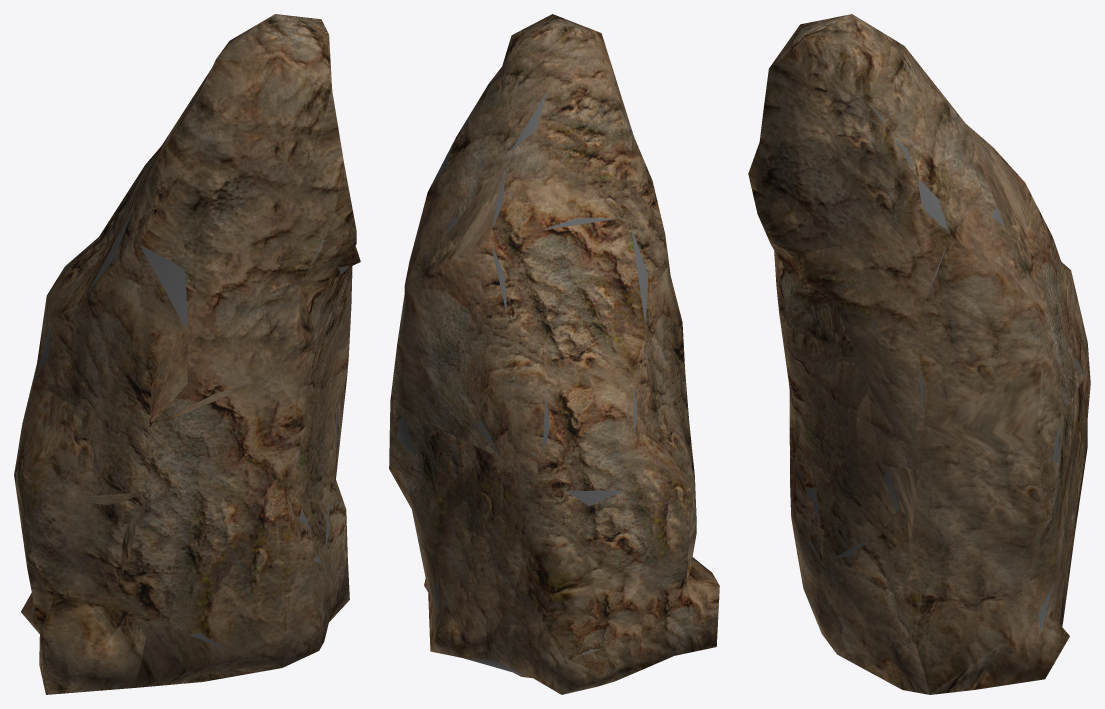
Rendered from OccSpike_01.DAE.
The picture shows the model from 3 angles, left to right: view 1: azimuth 30°, elevation 25°; view 2: azimuth 150°, elevation 25°; view 3: azimuth 270°, elevation 25°; orthographic projection. The views are drawn at different scales.
Parts seen in each view (by area): view 1: OccSpikeOne300, OccSpikeOne100, OccSpikeOne200; view 2: OccSpikeOne300, OccSpikeOne200, OccSpikeOne100; view 3: OccSpikeOne300, OccSpikeOne100, OccSpikeOne200.
Part boxes in pixels (x1,y1,x2,y2): OccSpikeOne300: (14, 14, 360, 694); OccSpikeOne100: (27, 61, 356, 687); OccSpikeOne200: (14, 59, 355, 687); OccSpikeOne300: (389, 14, 719, 694); OccSpikeOne200: (389, 34, 719, 681); OccSpikeOne100: (397, 59, 692, 677); OccSpikeOne300: (757, 14, 1090, 694); OccSpikeOne100: (748, 46, 1087, 694); OccSpikeOne200: (769, 58, 1087, 694).
Size of what is drawn, in the model's own units: 2.23 by 2.1 by 4.41.
